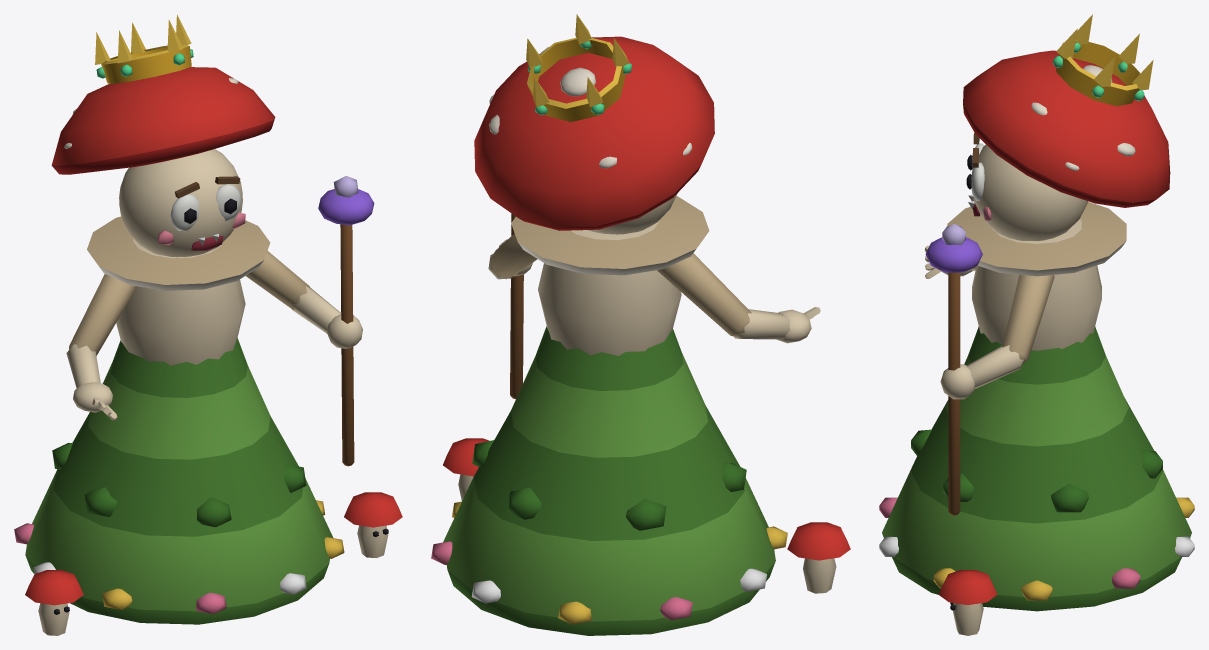
Rendered from e_boss_wald.glb.
3 renders of one model, left to right at view 1: azimuth 30°, elevation 25°; view 2: azimuth 150°, elevation 25°; view 3: azimuth 270°, elevation 25°, orthographic. The views are drawn at different scales.
Visible parts, largest first — view 1: skirt, head, torso, fore_l, crown, arm_r, page_l, page_r, fore_r, arm_l; view 2: skirt, head, torso, crown, arm_r, page_r, fore_r, fore_l, page_l, arm_l; view 3: skirt, head, torso, fore_l, crown, arm_l, page_l, gems_glow.
Part boxes in pixels (box(x1,y1,x2,y2)): skirt: box(14, 338, 344, 624); head: box(51, 67, 275, 257); torso: box(87, 216, 270, 365); fore_l: box(292, 189, 374, 466); crown: box(95, 14, 191, 84); arm_r: box(69, 274, 137, 355); page_l: box(344, 492, 402, 557); page_r: box(25, 570, 83, 635); fore_r: box(66, 344, 117, 420); arm_l: box(246, 251, 310, 309); skirt: box(431, 326, 787, 635); head: box(474, 36, 714, 234); torso: box(511, 196, 709, 355); crown: box(526, 14, 629, 121); arm_r: box(657, 253, 751, 336); page_r: box(787, 522, 850, 593); fore_r: box(733, 307, 820, 343); fore_l: box(488, 213, 532, 399); page_l: box(443, 438, 489, 500); arm_l: box(489, 233, 537, 279); skirt: box(879, 326, 1194, 611); head: box(963, 50, 1170, 241); torso: box(947, 202, 1126, 350); fore_l: box(925, 237, 1023, 515); crown: box(1056, 14, 1153, 106); arm_l: box(1002, 275, 1054, 363); page_l: box(938, 570, 997, 635); gems_glow: box(1053, 42, 1144, 101).
Size of the model in its own units: 3.7 by 5.09 by 2.74.
